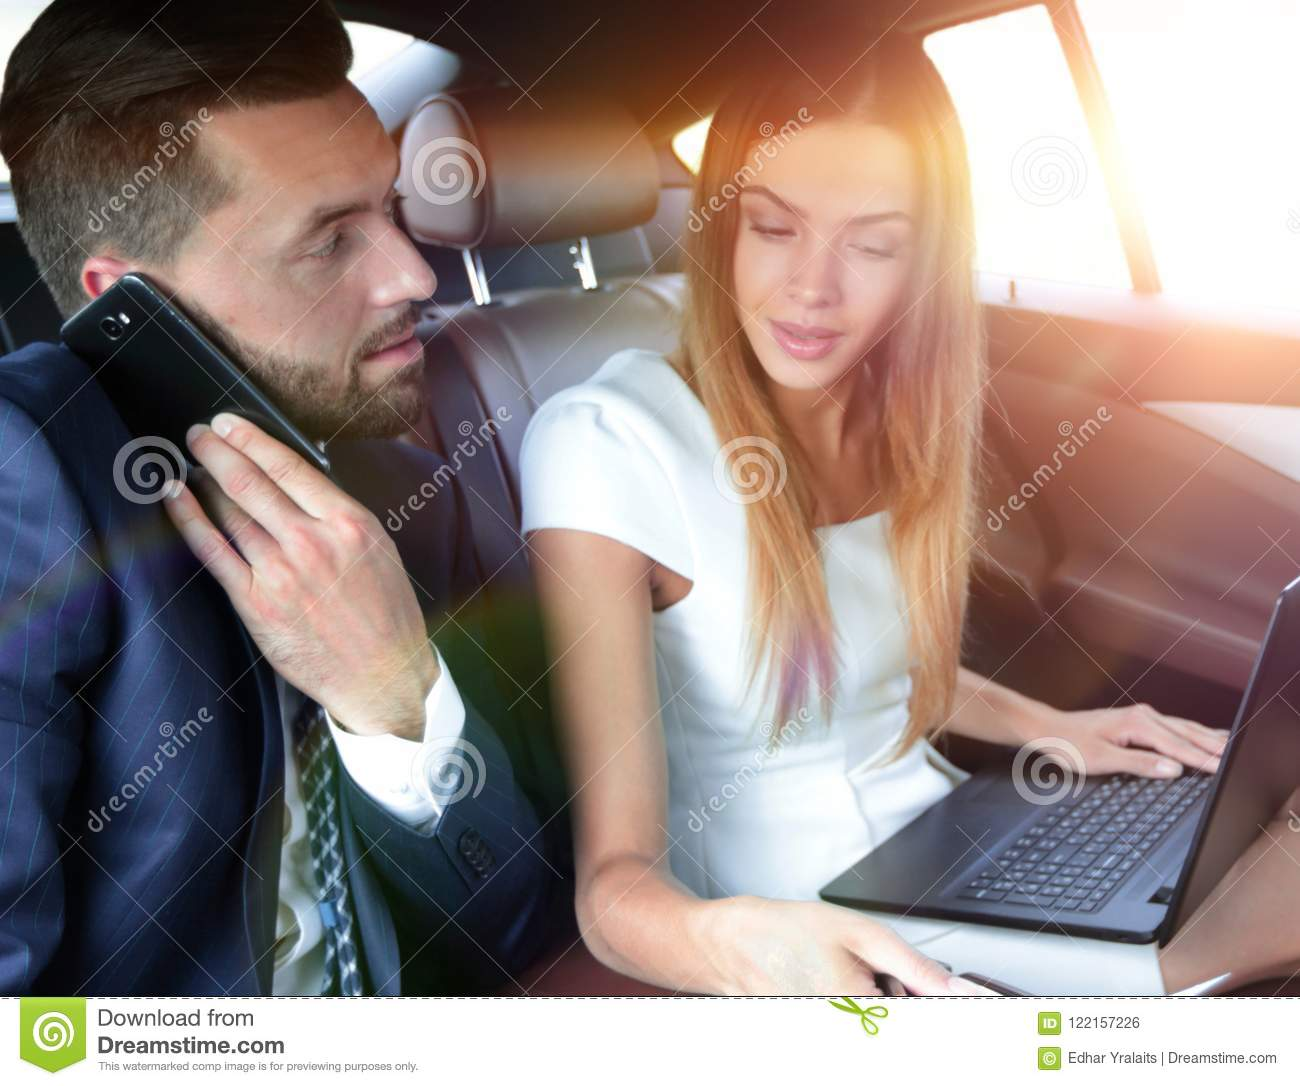phone: (63, 271, 329, 535)
talk: (62, 144, 443, 736)
